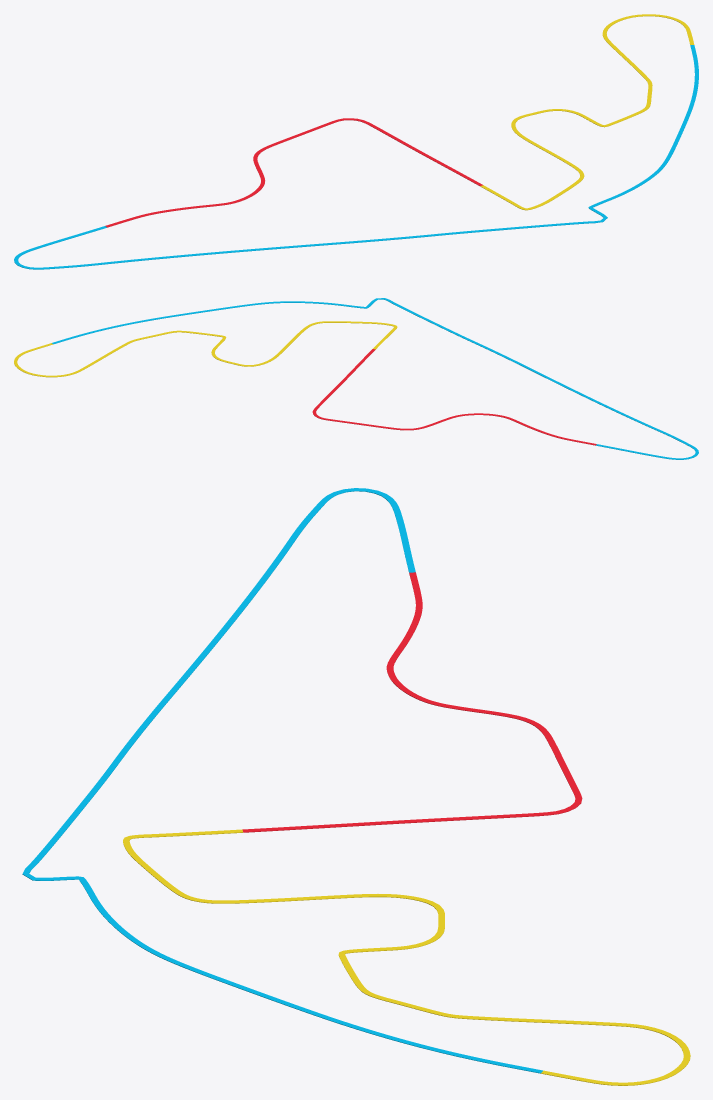
File: YasMarinaSectors.glb
3 views of the same model, one above another, from view 1: azimuth 30°, elevation 25°; view 2: azimuth 150°, elevation 25°; view 3: azimuth 270°, elevation 25° (orthographic). The views are drawn at different scales.
Visible parts, largest first — view 1: SectorStrip_2, SectorStrip_3, SectorStrip_1; view 2: SectorStrip_2, SectorStrip_3, SectorStrip_1; view 3: SectorStrip_2, SectorStrip_3, SectorStrip_1.
Part boxes in pixels (x1,y1,x2,y2): SectorStrip_2: (14,45,698,269); SectorStrip_3: (480,14,694,210); SectorStrip_1: (105,118,482,227); SectorStrip_2: (52,298,698,459); SectorStrip_3: (14,321,397,377); SectorStrip_1: (312,349,596,445); SectorStrip_2: (22,488,542,1073); SectorStrip_3: (123,829,690,1085); SectorStrip_1: (242,572,582,832).
Size of the model in its own units: 16.26 by 0.006 by 7.68.
